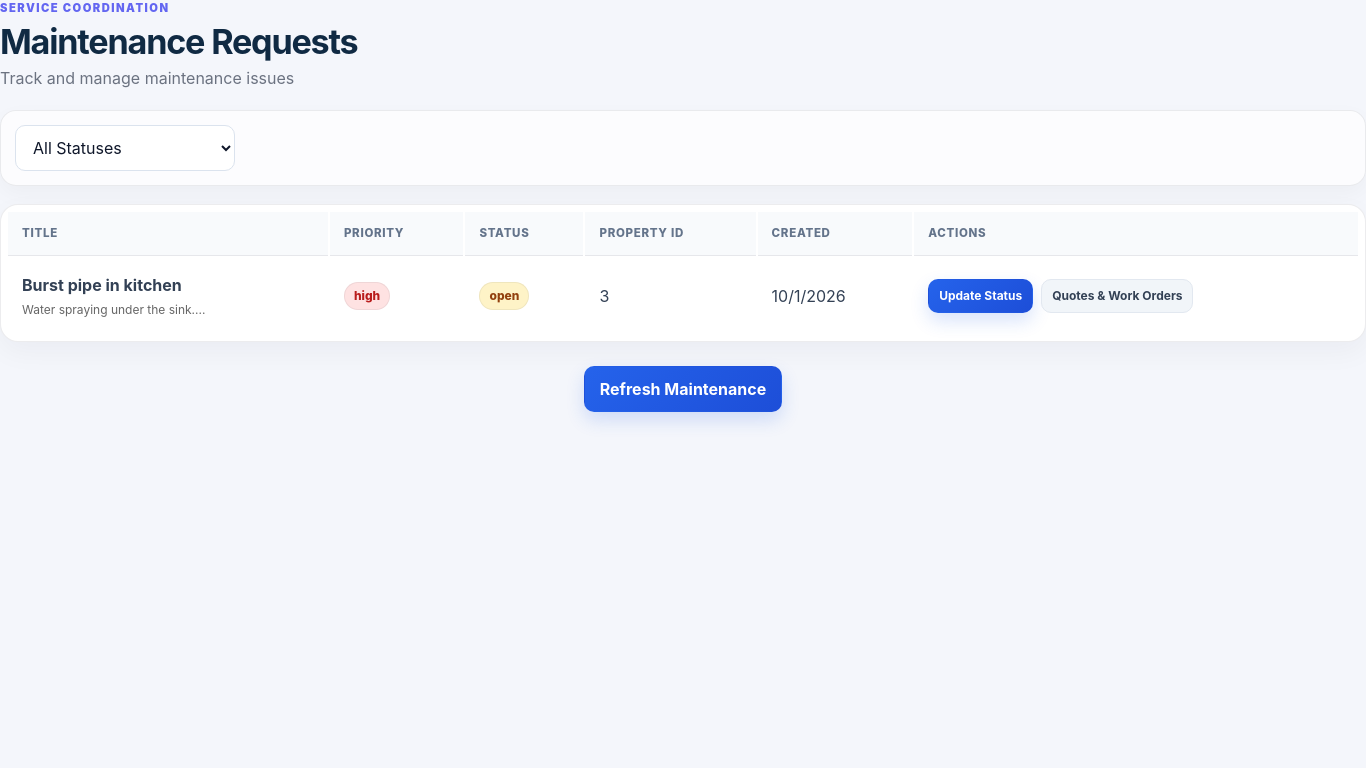
Test case: ManagerMaintenance › shows quotes and work orders for a ticket
The width and height of the screenshot is (1366, 768).
Expected: the text "Burst pipe in kitchen" is shown, [22,275,182,295]
Click the button "Quotes & Work Orders" at {"x": 1117, "y": 296}, box [1041,279,1194,313]
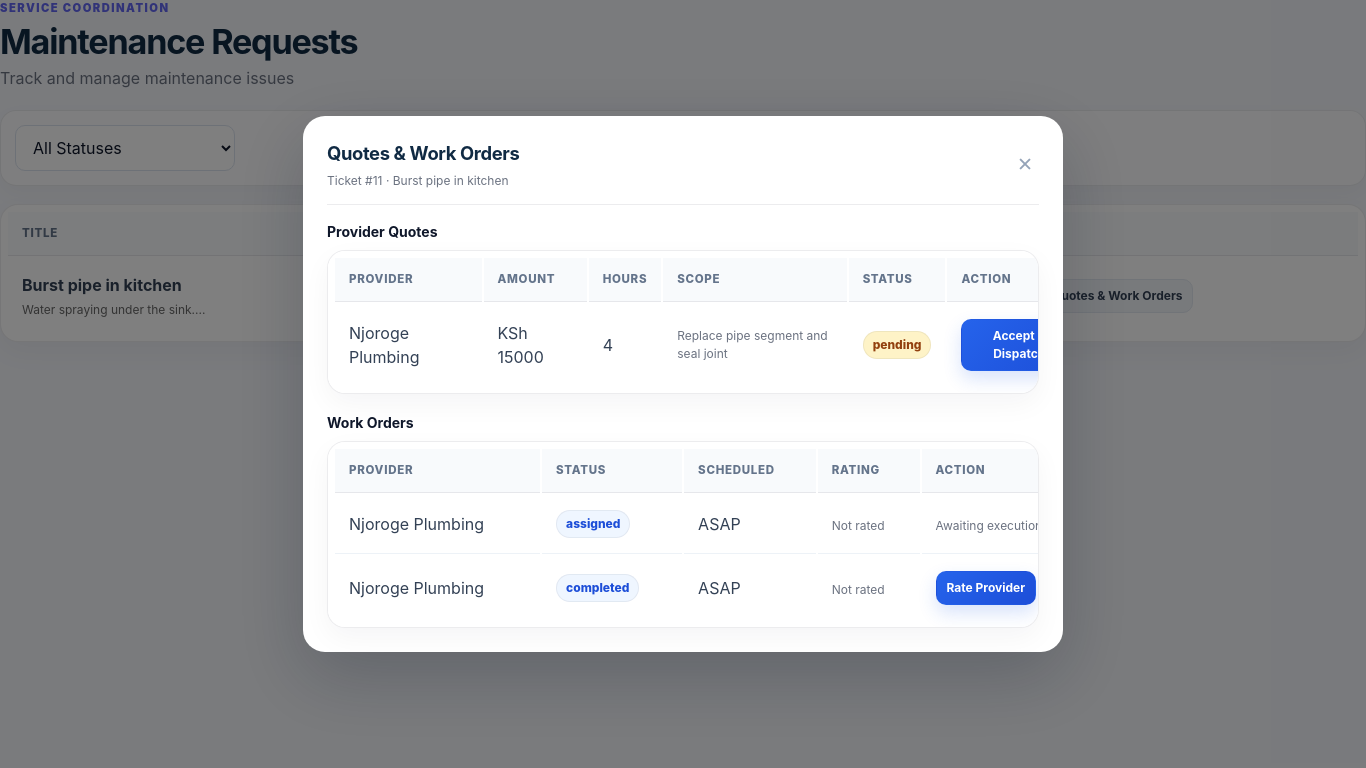
Expected: the heading "Quotes & Work Orders" is shown, [327,140,519,168]
Expected: the text "KSh 15000" is shown, [484,304,587,386]
Expected: the text "Replace pipe segment and seal joint" is shown, [677,327,833,363]
